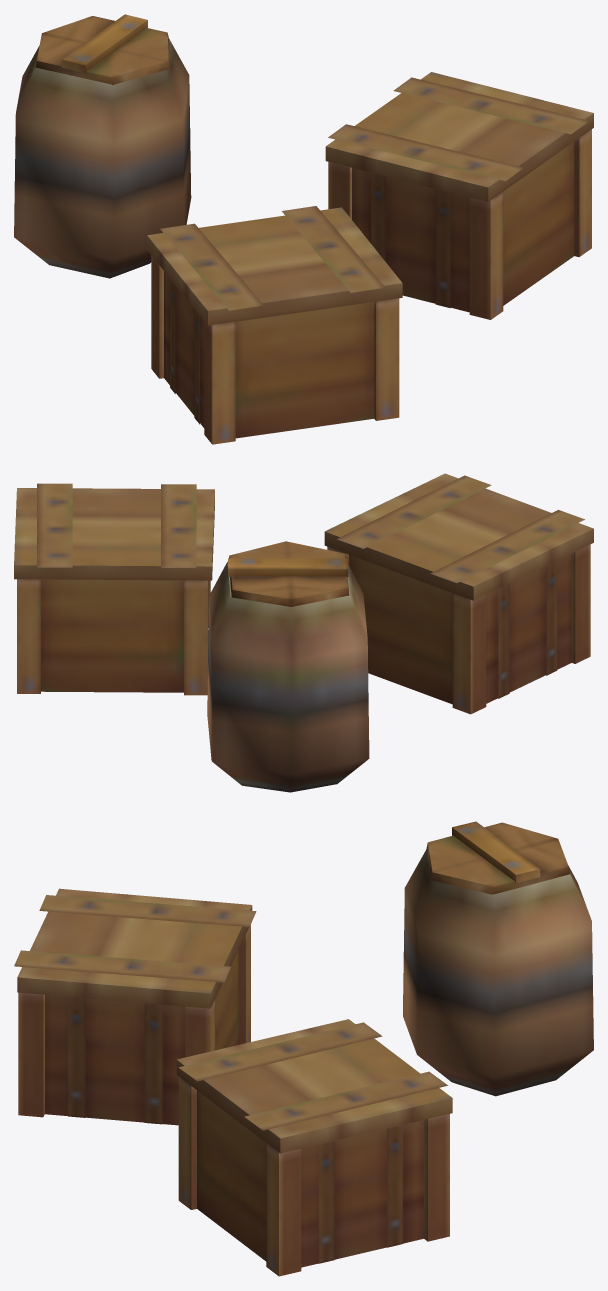
Rendered from area_03_3.FBX.
The picture shows the model from 3 angles, top to bottom: view 1: azimuth 30°, elevation 25°; view 2: azimuth 150°, elevation 25°; view 3: azimuth 270°, elevation 25°; orthographic projection. The views are drawn at different scales.
Visible parts, largest first — view 1: area_03_3; view 2: area_03_3; view 3: area_03_3.
Part boxes in pixels (left/top/right/bottom): area_03_3: left=14, top=14, right=593, bottom=444; area_03_3: left=14, top=473, right=593, bottom=792; area_03_3: left=14, top=821, right=593, bottom=1276.
Size of the model in its own units: 2.71 by 1.18 by 2.66.
